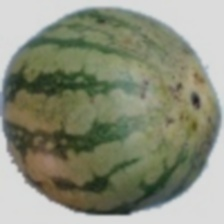watermelon: (50, 11, 213, 208)
